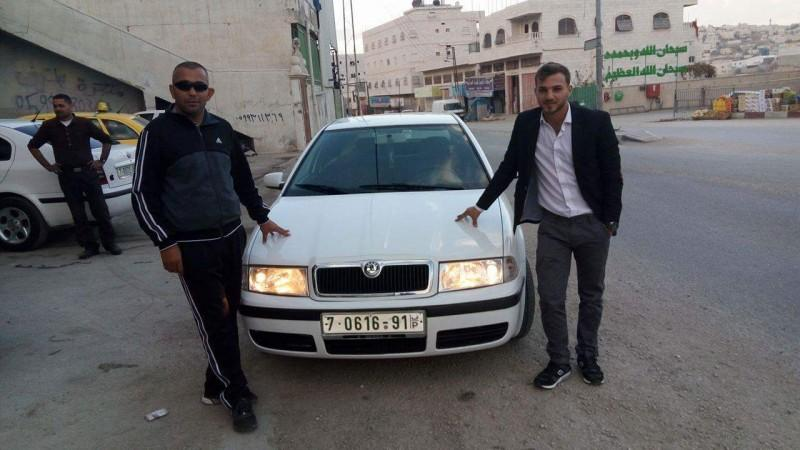skoda: (361, 257, 386, 281)
